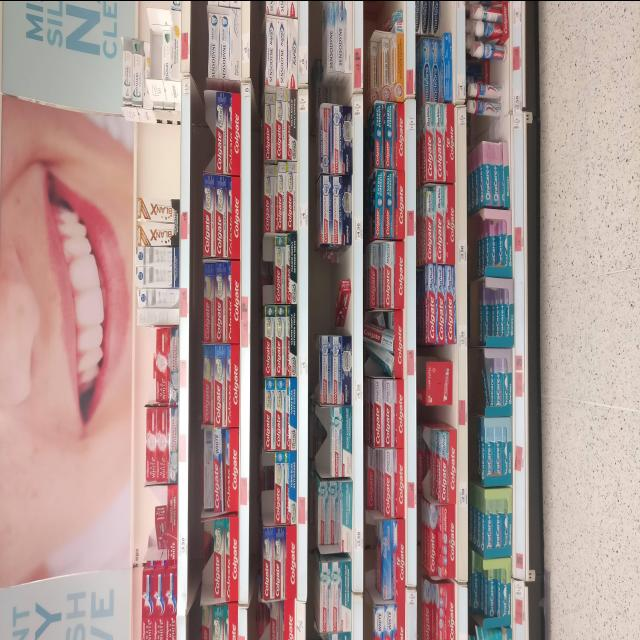empty_space: (144, 123, 181, 197), (476, 112, 510, 141), (328, 254, 352, 280), (437, 1, 455, 33), (489, 65, 507, 87)
